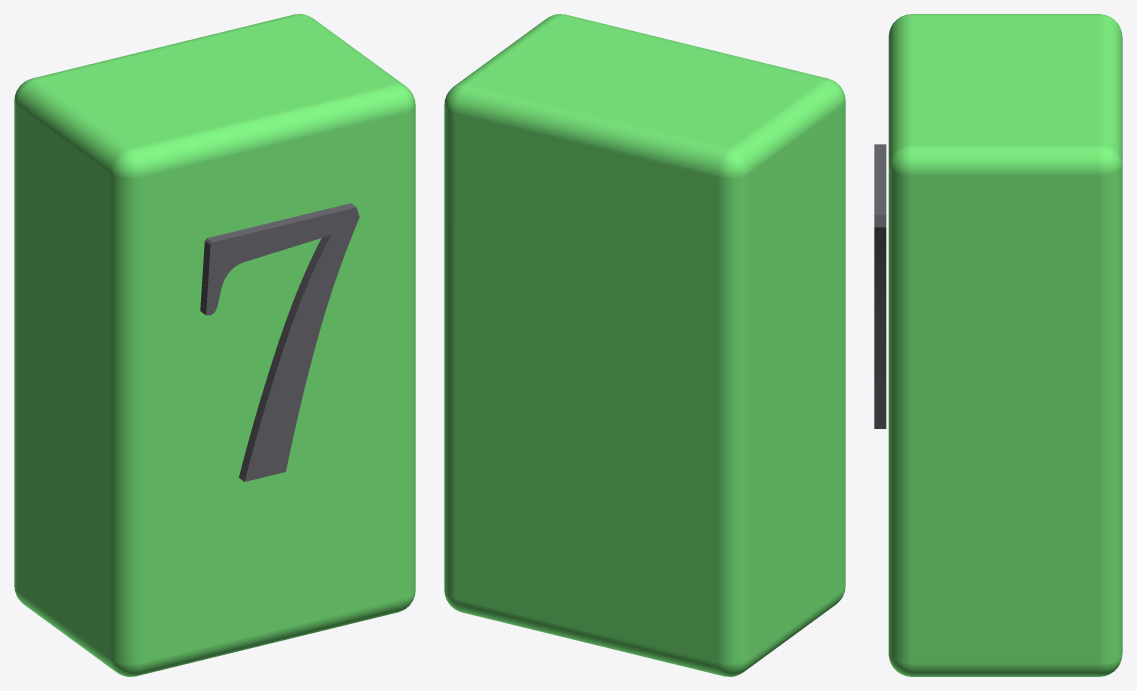
File: pin_7.gltf
3 renders of one model, left to right at view 1: azimuth 30°, elevation 25°; view 2: azimuth 150°, elevation 25°; view 3: azimuth 270°, elevation 25°, orthographic.
Parts seen in each view (by area): view 1: White, Black; view 2: White; view 3: White, Black.
Boxes of the visible parts, left/top/right/bottom form: White: left=14, top=14, right=415, bottom=676; Black: left=200, top=203, right=359, bottom=481; White: left=444, top=14, right=845, bottom=676; White: left=888, top=14, right=1122, bottom=676; Black: left=874, top=144, right=886, bottom=428.
Size of the model in its own units: 1.5 by 2.5 by 1.06.
